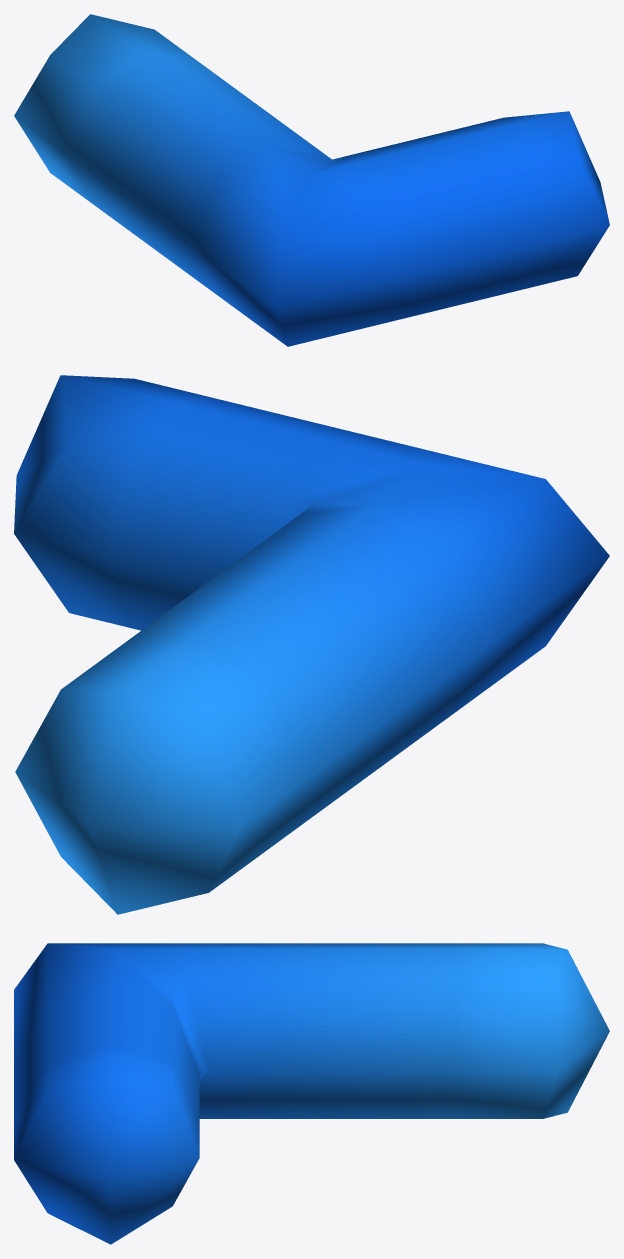
Rendered from CartoonFont_L.FBX.
The picture shows the model from 3 angles, top to bottom: view 1: azimuth 30°, elevation 25°; view 2: azimuth 150°, elevation 25°; view 3: azimuth 270°, elevation 25°; orthographic projection. The views are drawn at different scales.
Visible parts, largest first — view 1: L; view 2: L; view 3: L.
Part boxes in pixels (<box>): L: <box>14,14,609,346</box>; L: <box>14,375,609,914</box>; L: <box>14,943,609,1244</box>.
Size of the model in its own units: 22.64 by 9.11 by 30.17.
Materials: 1 (1 with a texture image).
